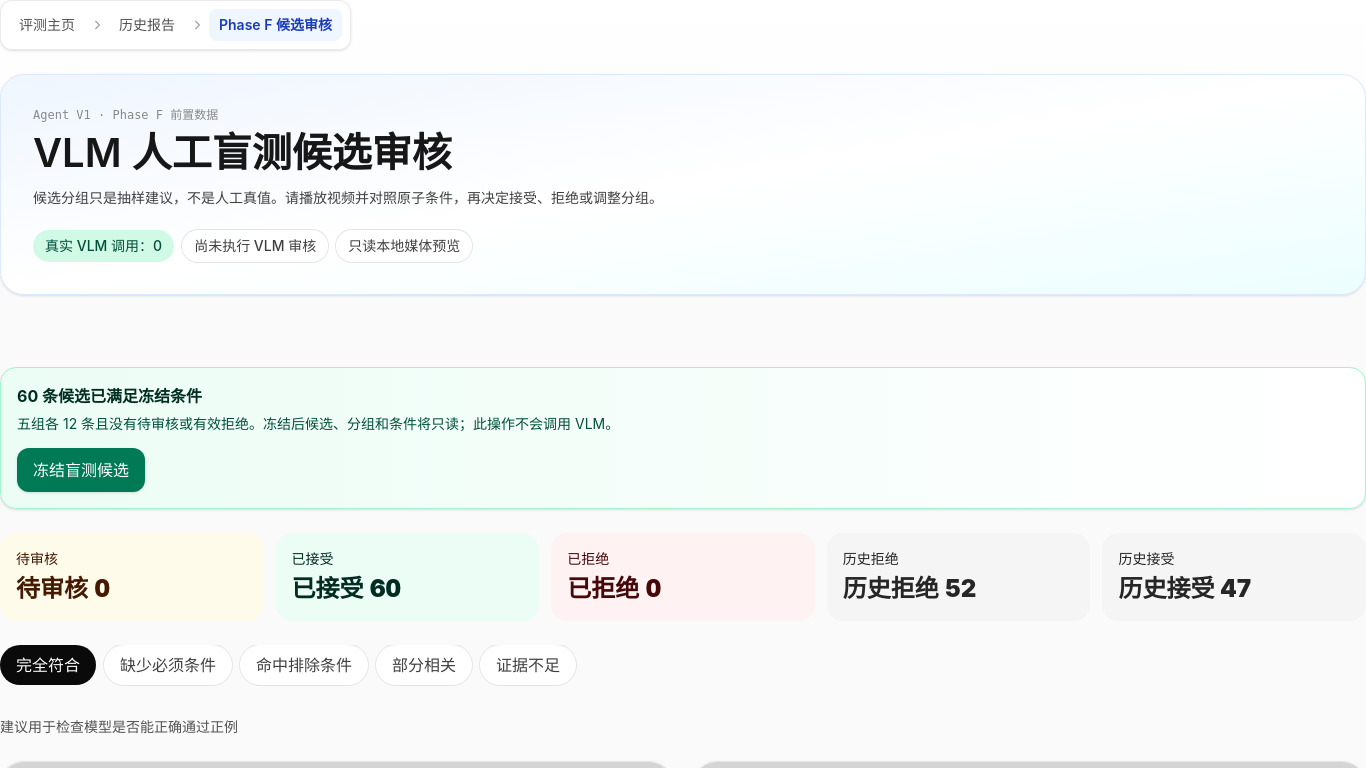
it: Phase F candidate review workspace › freezes a balanced accepted batch and exposes the immutable audit state
The image size is (1366, 768).
Click the button "冻结盲测候选" at coordinates (81, 470), box [17,448,145,492]
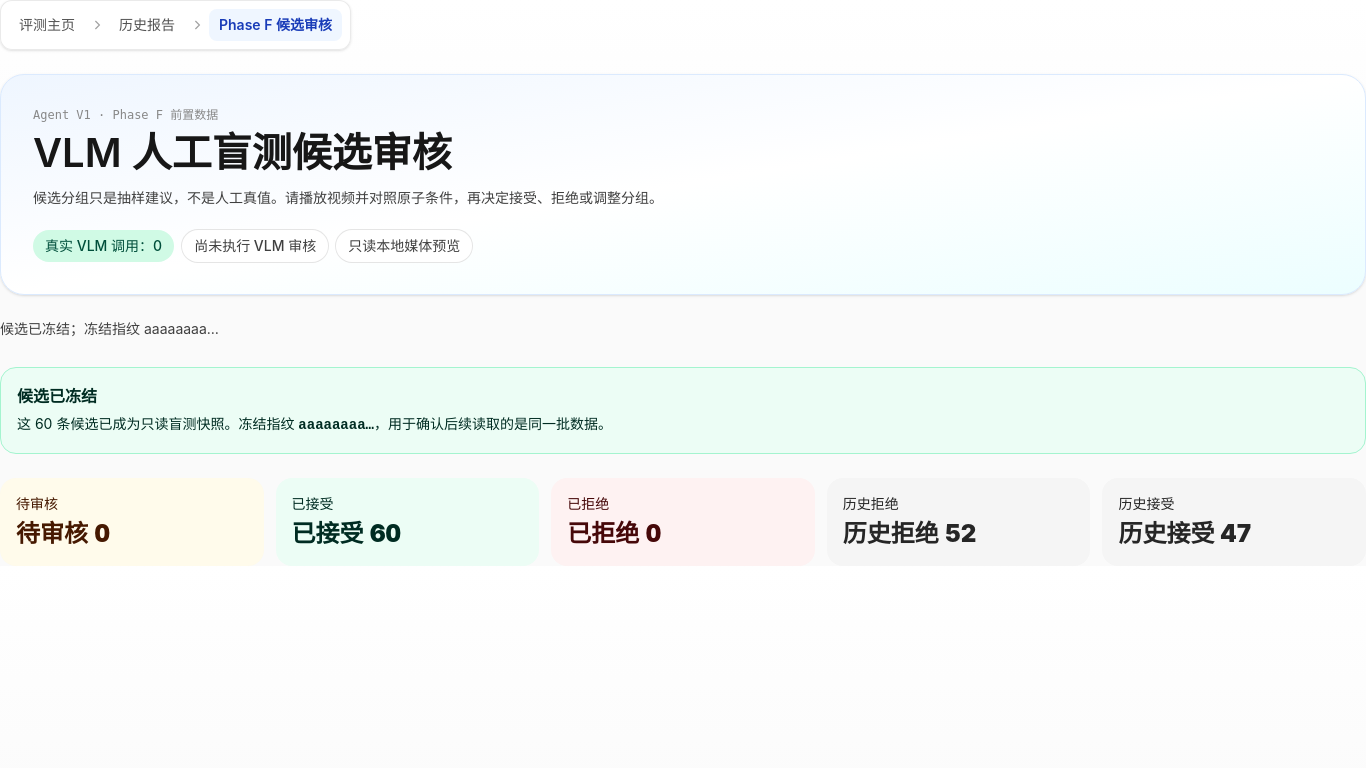
Expected: the text "候选已冻结" is shown, [17,386,97,406]
Expected: the text "候选已冻结；冻结指纹 aaaaaaaa…" is shown, [0,320,219,337]
Expected: the button "冻结盲测候选" is gone
